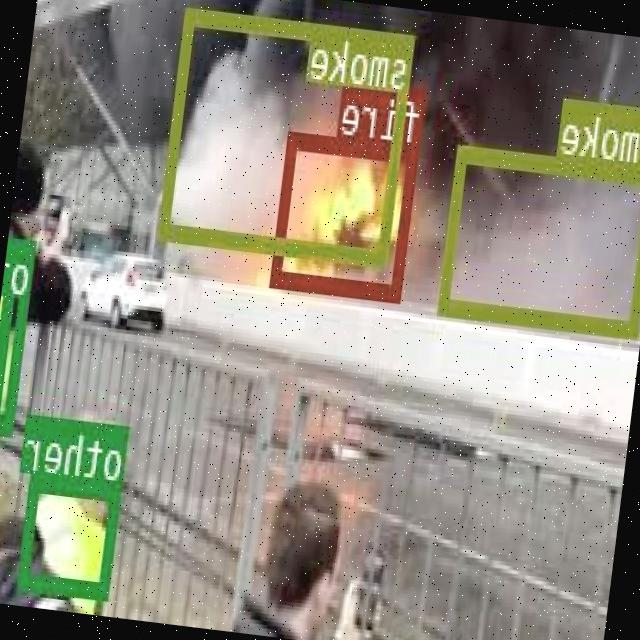fire: (272, 130, 422, 301)
smoke: (161, 4, 416, 264), (440, 142, 640, 336)
